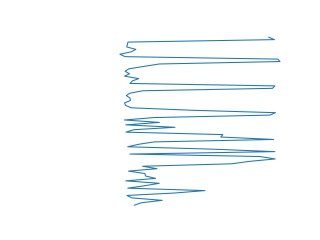crevasseRiverChannelBar: (122, 160, 270, 206)
majorRiverBedLagDeposit: (118, 120, 281, 162)
majorRiverChannelBar: (117, 34, 283, 116)
